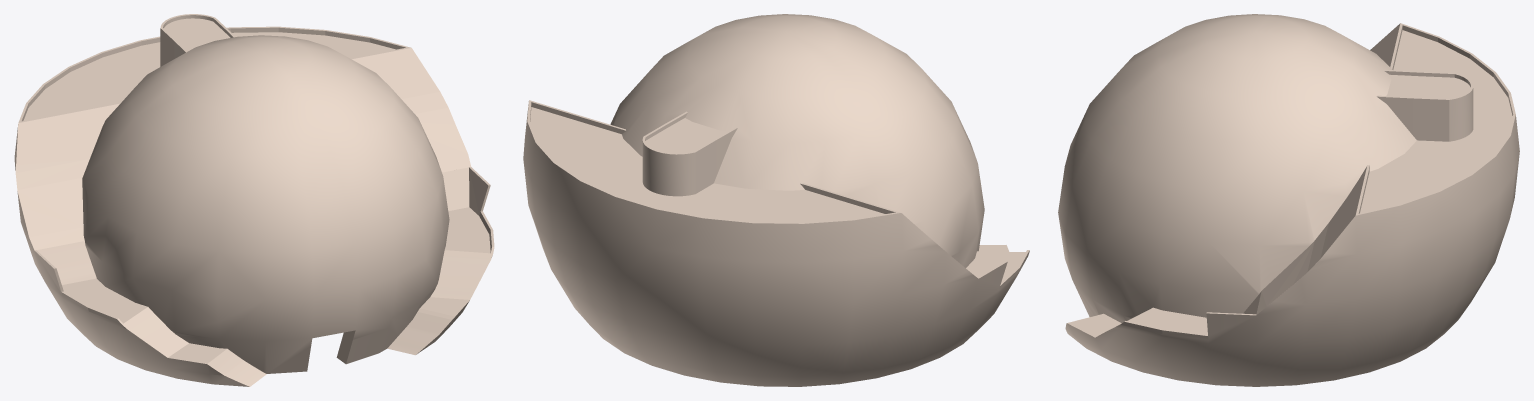
File: cecut.glb
3 renders of one model, left to right at view 1: azimuth 30°, elevation 25°; view 2: azimuth 150°, elevation 25°; view 3: azimuth 270°, elevation 25°, orthographic. The views are drawn at different scales.
Visible parts, largest first — view 1: ID1030_1; view 2: ID1030_1; view 3: ID1030_1.
Part boxes in pixels (bbox=[...]): ID1030_1: bbox=[14, 14, 494, 386]; ID1030_1: bbox=[523, 14, 1029, 386]; ID1030_1: bbox=[1058, 14, 1519, 386].
Bounding box in the file's own units: 38.91 × 22.5 × 35.03.
